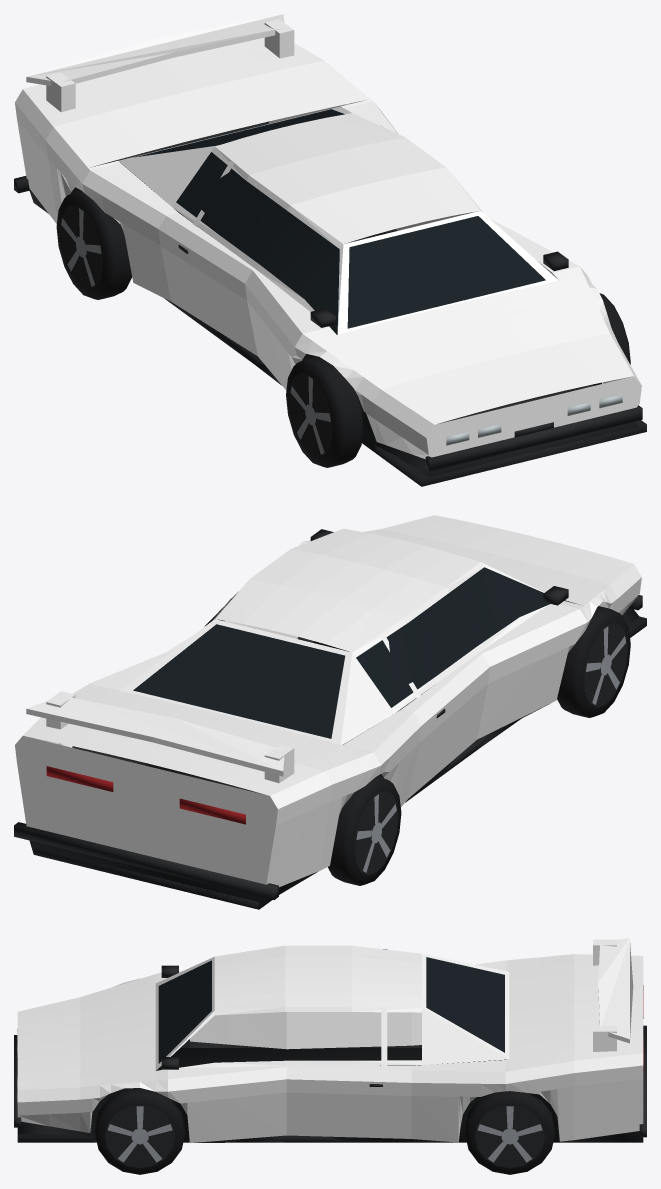
The model's file is corsalto_helios.glb.
3 views of the same model, one above another, from view 1: azimuth 30°, elevation 25°; view 2: azimuth 150°, elevation 25°; view 3: azimuth 270°, elevation 25° (orthographic). The views are drawn at different scales.
Parts seen in each view (by area): view 1: Body_Paint, Body_Details, Mount_FrontLeft_Wheel_Details, Mount_RearLeft_Wheel_Details, Mount_FrontRight_Wheel_Details; view 2: Body_Paint, Body_Details, Mount_RearLeft_Wheel_Details, Mount_FrontLeft_Wheel_Details; view 3: Body_Paint, Body_Details, Mount_FrontRight_Wheel_Details, Mount_RearRight_Wheel_Details.
Part boxes in pixels (x1,y1,x2,y2): Body_Paint: (15, 14, 641, 459); Body_Details: (14, 109, 646, 486); Mount_FrontLeft_Wheel_Details: (286, 356, 363, 467); Mount_RearLeft_Wheel_Details: (56, 190, 131, 299); Mount_FrontRight_Wheel_Details: (599, 293, 630, 364); Body_Paint: (15, 515, 641, 887); Body_Details: (14, 529, 646, 909); Mount_RearLeft_Wheel_Details: (328, 776, 401, 885); Mount_FrontLeft_Wheel_Details: (557, 606, 630, 717); Body_Paint: (17, 938, 643, 1142); Body_Details: (14, 957, 646, 1142); Mount_FrontRight_Wheel_Details: (95, 1088, 185, 1174); Mount_RearRight_Wheel_Details: (465, 1091, 555, 1174).
Bounding box in the file's own units: 2.07 × 1.19 × 4.7.
Materials: 2 (1 with a texture image).
